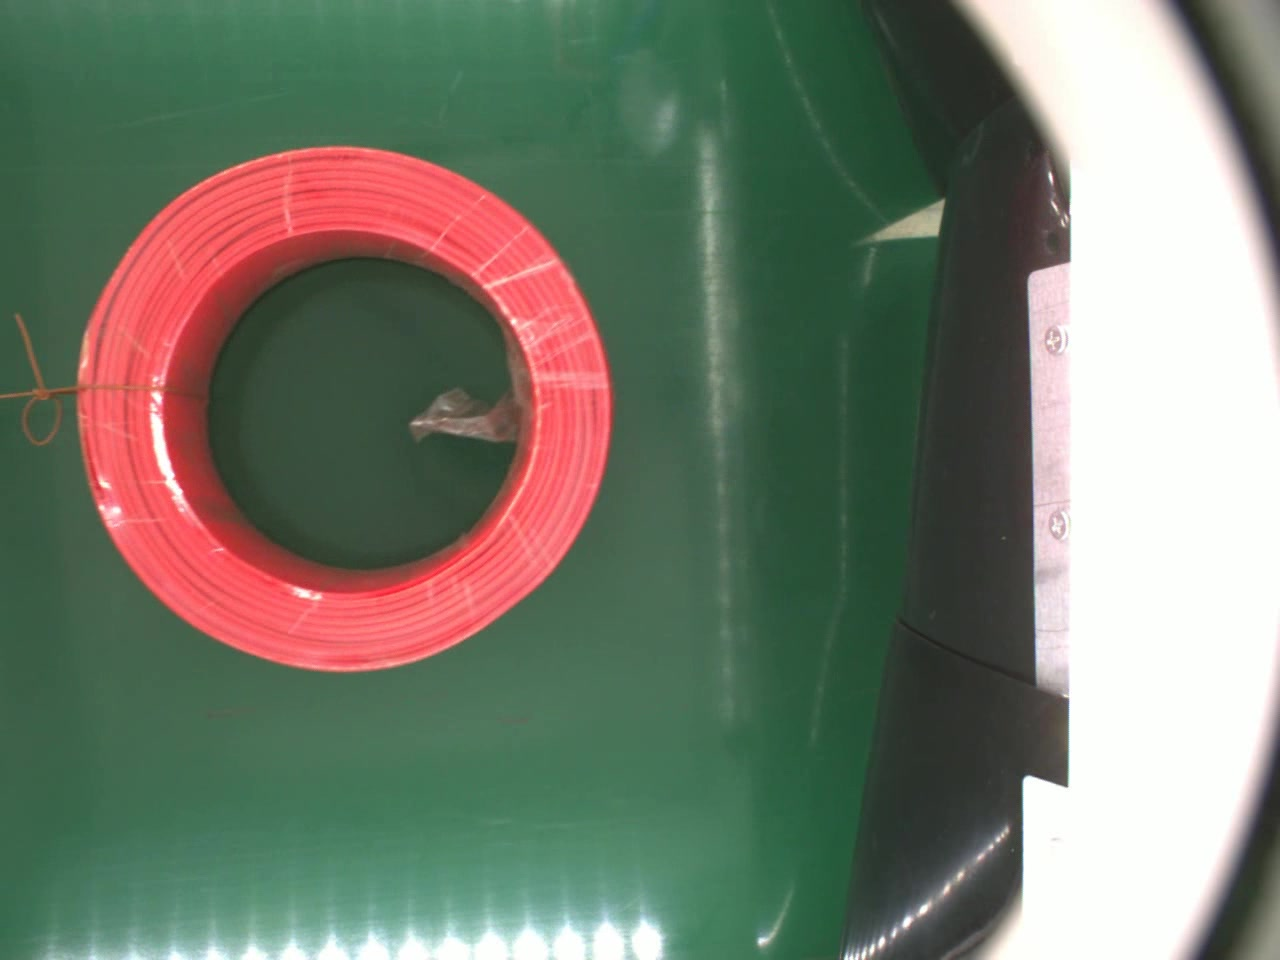red: (77, 145, 611, 670)
